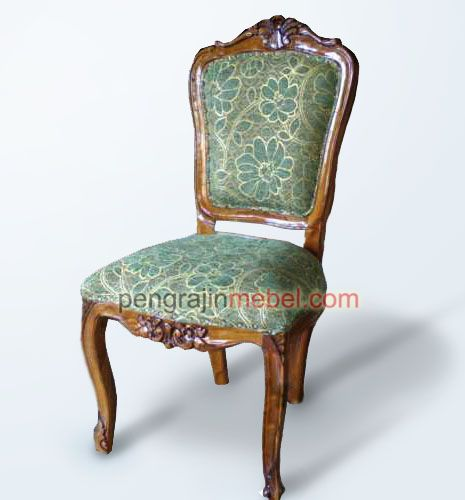Carving Chair: (96, 22, 337, 500)
